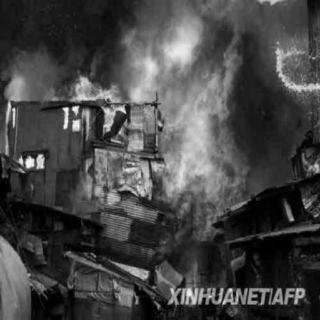Fire: (113, 8, 250, 310)
